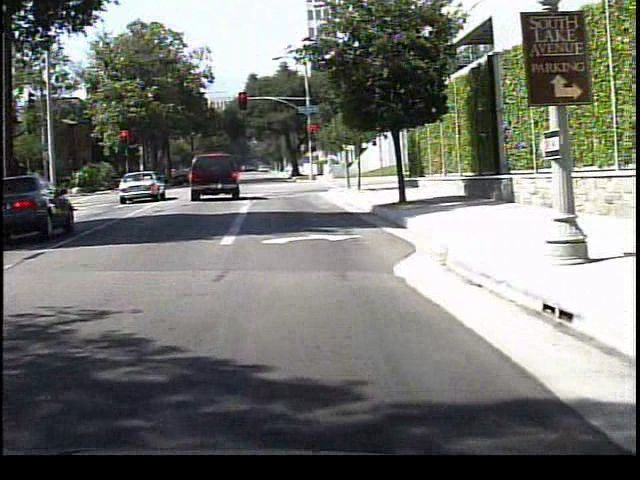person: (322, 155, 338, 183)
